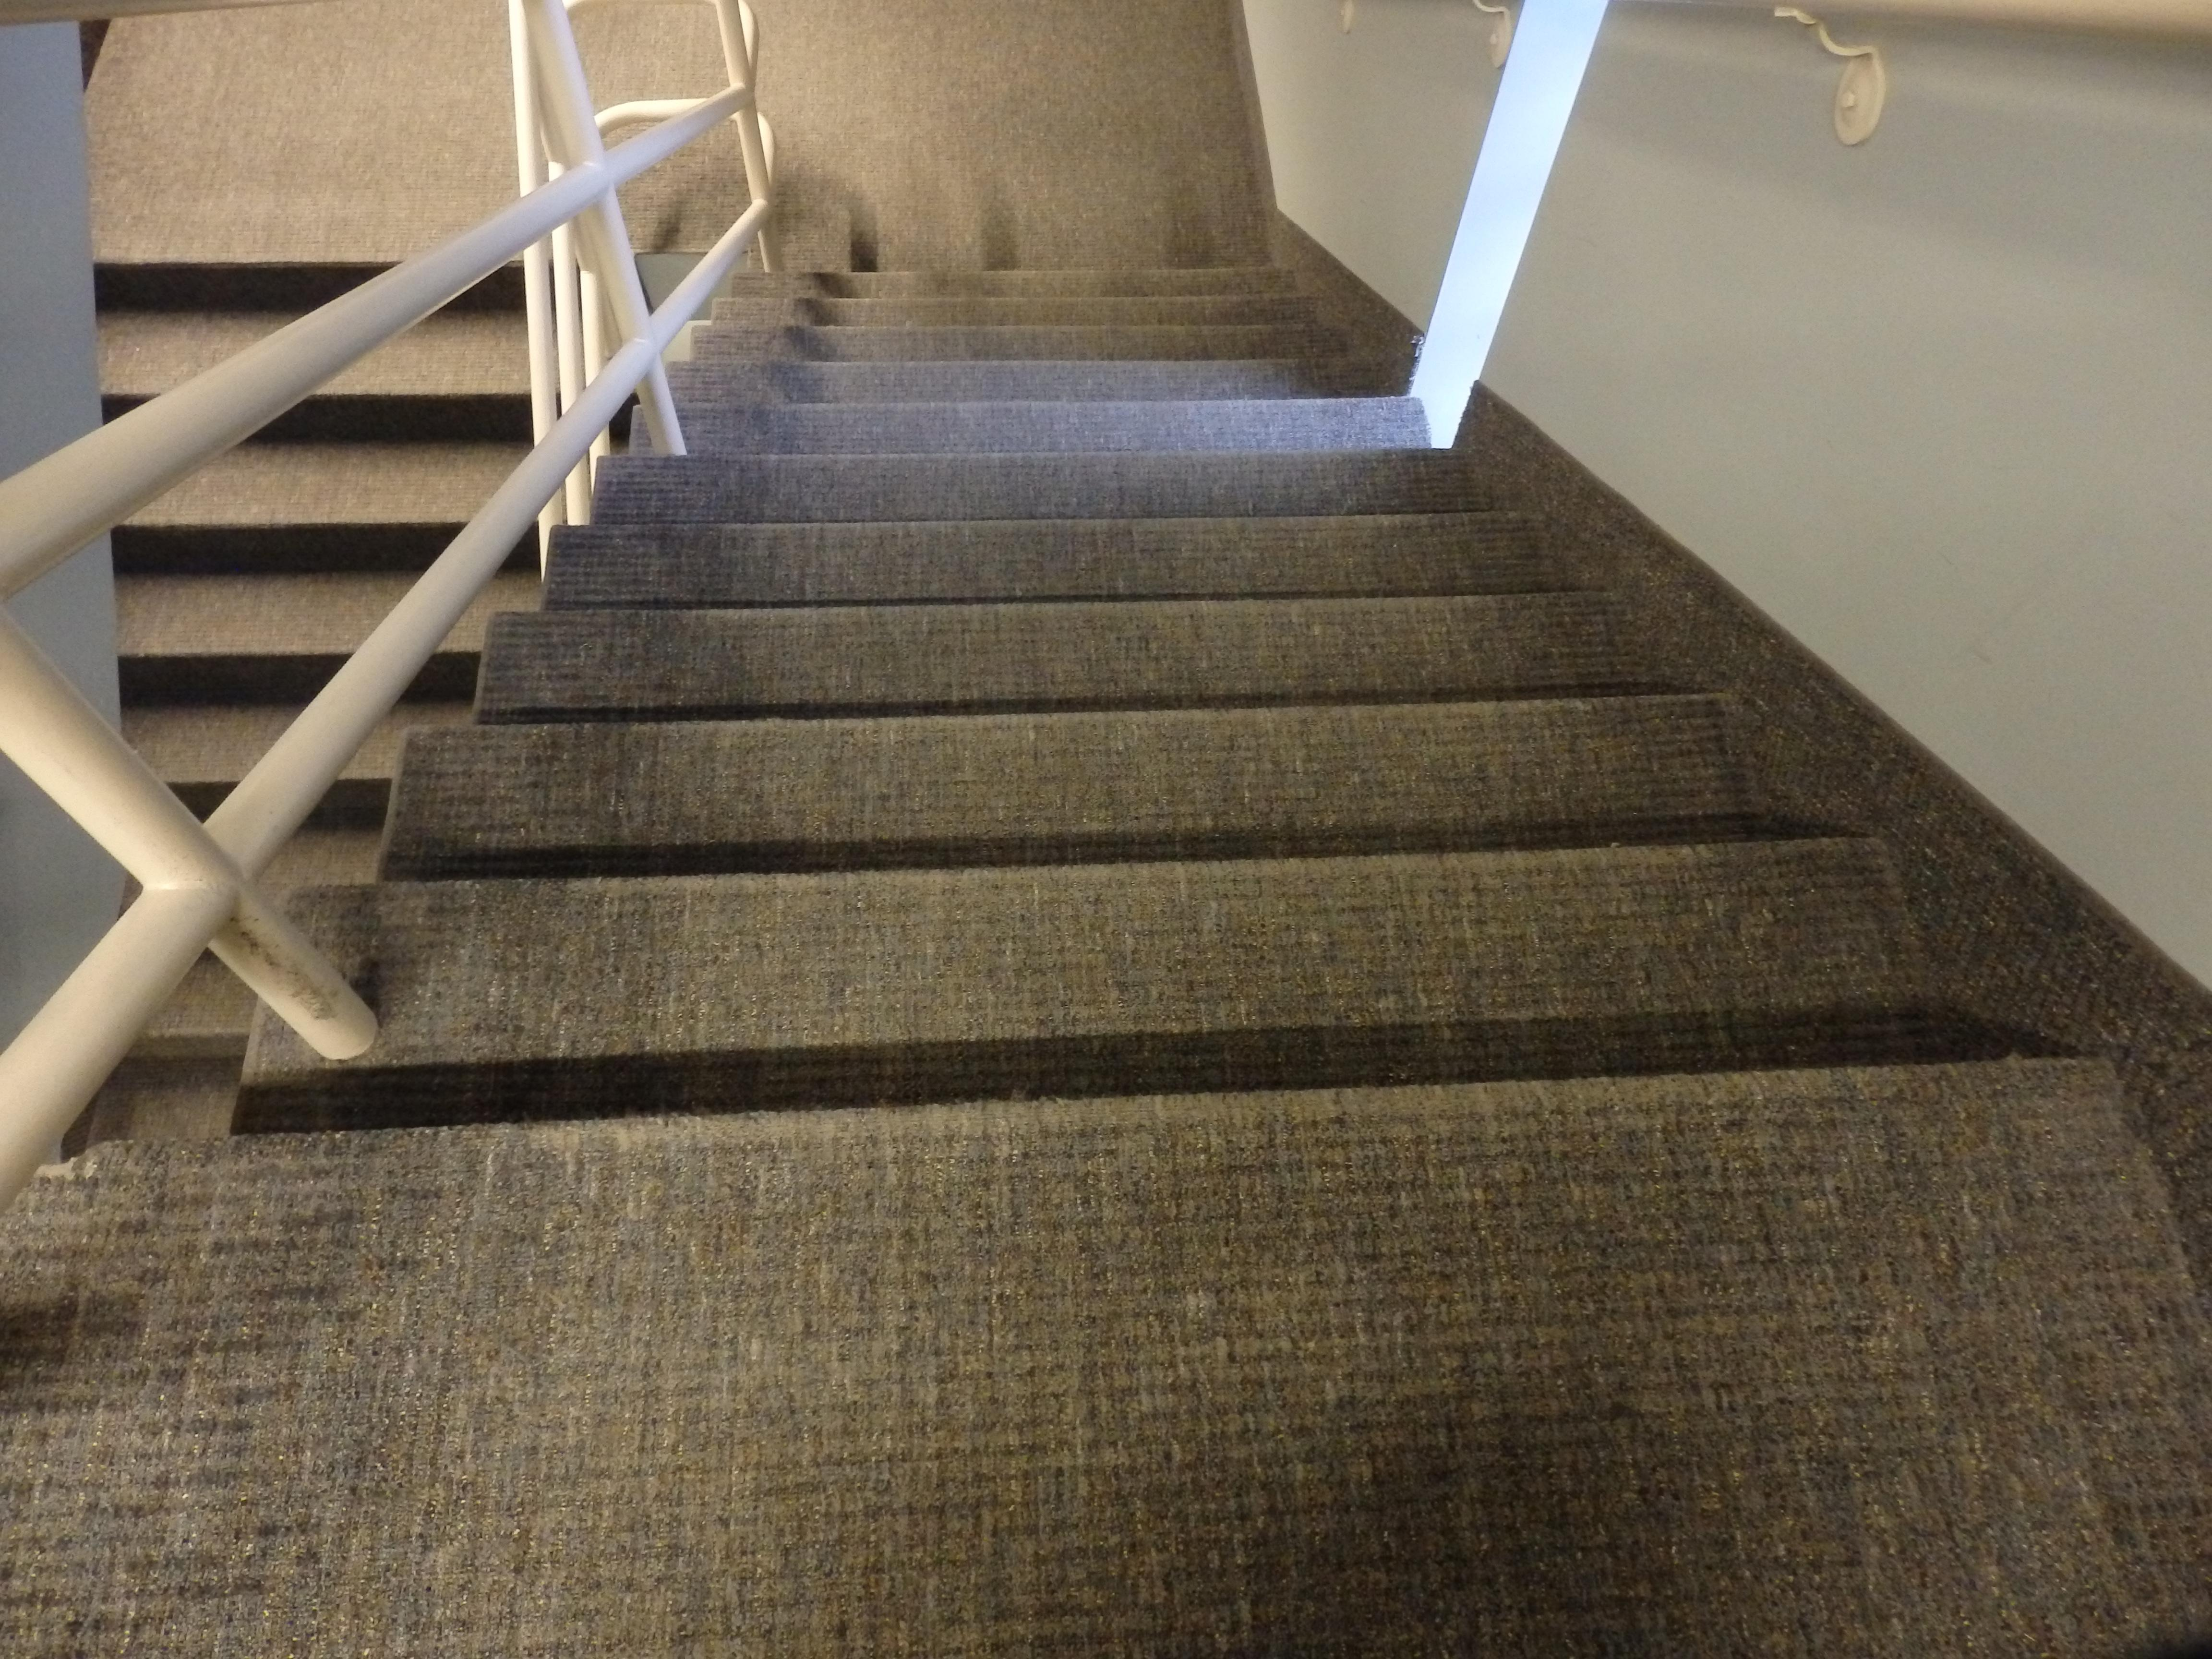stairs_down: (604, 176, 1965, 1209)
